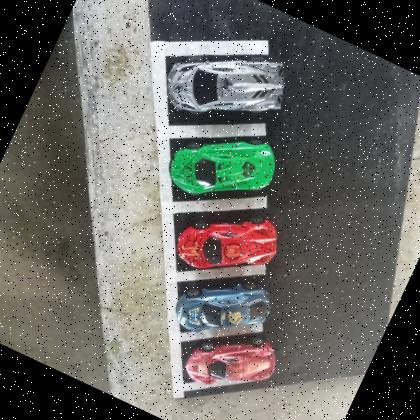Car: (157, 22, 298, 149), (160, 109, 286, 224), (168, 188, 288, 296), (167, 255, 278, 358), (181, 314, 285, 411)
